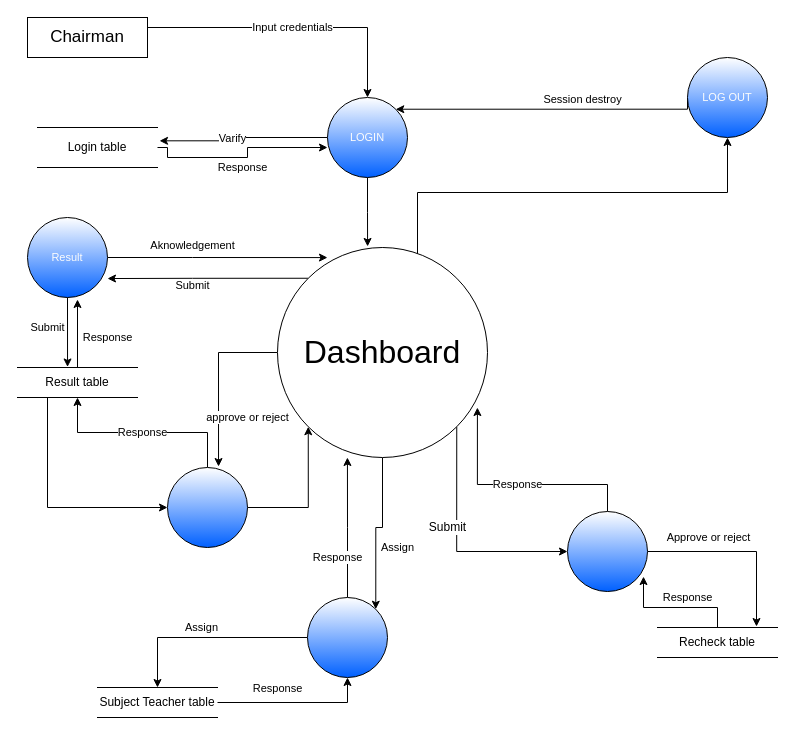
The diagram is 795 pixels wide and 735 high, and some of its shapes have lost their labels. Here are the shapes that lost their labels. From the top down, the centre of each, then its label:
At point 207,507: "View result".
At point 607,551: "Recheck".
At point 347,637: "Subject Assign".
